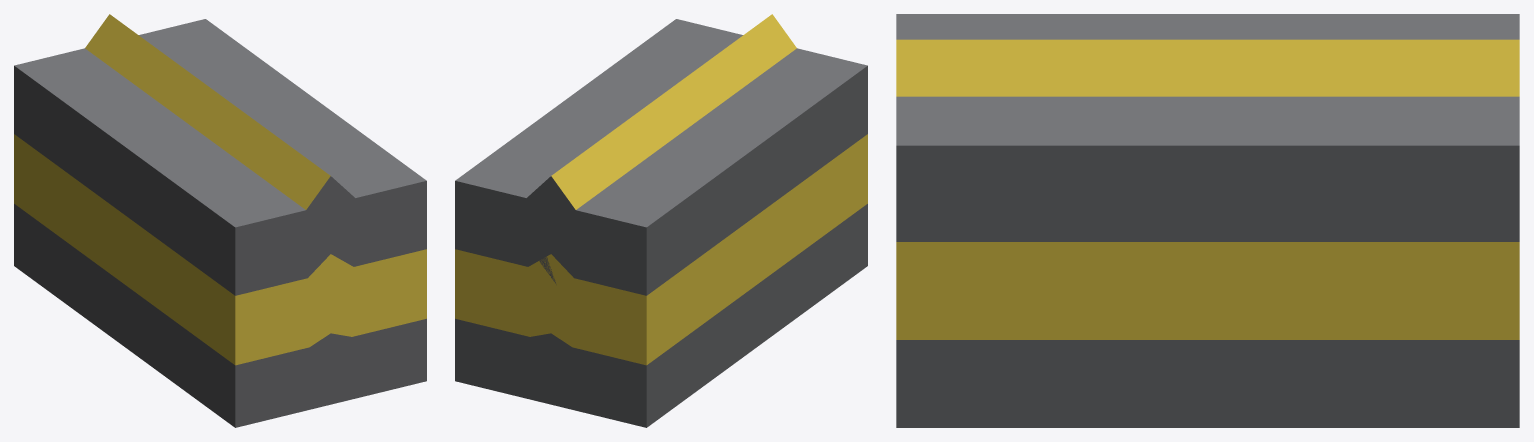
The model's file is realbrokenconcrete.fbx.
3 views of the same model, side by side, from view 1: azimuth 30°, elevation 25°; view 2: azimuth 150°, elevation 25°; view 3: azimuth 270°, elevation 25° (orthographic). The views are drawn at different scales.
Parts seen in each view (by area): view 1: ConcreteBroken.012, ConcreteBroken.005, ConcreteBroken.010, ConcreteBroken.003, ConcreteBroken.004, ConcreteBroken.013, ConcreteBroken.006, ConcreteBroken.001, ConcreteBroken.011, ConcreteBroken.007, ConcreteBroken.009, ConcreteBroken.008 (+1 smaller); view 2: ConcreteBroken.010, ConcreteBroken.001, ConcreteBroken.003, ConcreteBroken.002, ConcreteBroken.004, ConcreteBroken.005, ConcreteBroken.015, ConcreteBroken.011, ConcreteBroken.009, ConcreteBroken.008, ConcreteBroken.012, ConcreteBroken.006 (+1 smaller); view 3: ConcreteBroken.008, ConcreteBroken.009, ConcreteBroken.013, ConcreteBroken.014, ConcreteBroken.002, ConcreteBroken.015, ConcreteBroken.003, ConcreteBroken.007, ConcreteBroken.001, ConcreteBroken.004, ConcreteBroken.006, ConcreteBroken.005.
Part boxes in pixels (bbox=[...]): ConcreteBroken.012: bbox=[181, 297, 373, 427]; ConcreteBroken.005: bbox=[174, 164, 307, 352]; ConcreteBroken.010: bbox=[14, 160, 134, 345]; ConcreteBroken.003: bbox=[50, 42, 211, 212]; ConcreteBroken.004: bbox=[121, 89, 286, 291]; ConcreteBroken.013: bbox=[331, 229, 426, 404]; ConcreteBroken.006: bbox=[262, 144, 368, 315]; ConcreteBroken.001: bbox=[14, 14, 147, 178]; ConcreteBroken.011: bbox=[122, 256, 205, 405]; ConcreteBroken.007: bbox=[330, 152, 426, 262]; ConcreteBroken.009: bbox=[190, 53, 328, 126]; ConcreteBroken.008: bbox=[264, 109, 387, 174]; ConcreteBroken.010: bbox=[538, 217, 767, 427]; ConcreteBroken.001: bbox=[526, 148, 682, 340]; ConcreteBroken.003: bbox=[589, 101, 754, 268]; ConcreteBroken.002: bbox=[455, 146, 573, 325]; ConcreteBroken.004: bbox=[653, 46, 812, 276]; ConcreteBroken.005: bbox=[764, 59, 867, 215]; ConcreteBroken.015: bbox=[455, 295, 565, 401]; ConcreteBroken.011: bbox=[755, 174, 837, 347]; ConcreteBroken.009: bbox=[502, 90, 646, 158]; ConcreteBroken.008: bbox=[579, 43, 712, 105]; ConcreteBroken.012: bbox=[813, 175, 867, 287]; ConcreteBroken.006: bbox=[728, 14, 839, 68]; ConcreteBroken.008: bbox=[960, 39, 1183, 339]; ConcreteBroken.009: bbox=[1162, 40, 1400, 339]; ConcreteBroken.013: bbox=[896, 214, 1117, 427]; ConcreteBroken.014: bbox=[1098, 274, 1373, 427]; ConcreteBroken.002: bbox=[1373, 96, 1519, 321]; ConcreteBroken.015: bbox=[1348, 308, 1519, 427]; ConcreteBroken.003: bbox=[1216, 14, 1452, 96]; ConcreteBroken.007: bbox=[896, 72, 1006, 241]; ConcreteBroken.001: bbox=[1413, 14, 1519, 96]; ConcreteBroken.004: bbox=[1025, 14, 1231, 96]; ConcreteBroken.006: bbox=[896, 32, 1020, 96]; ConcreteBroken.005: bbox=[896, 14, 1116, 39].
Size of the model in its own units: 200 by 228 by 400.
